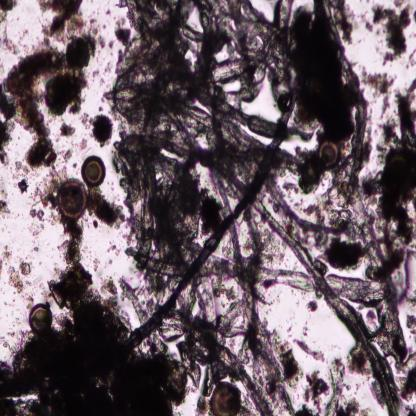Background material: (108, 0, 353, 263), (0, 219, 189, 415), (0, 30, 106, 174), (379, 80, 416, 273), (350, 67, 382, 239), (374, 2, 416, 62), (331, 357, 371, 415), (269, 329, 302, 387), (39, 0, 85, 41), (87, 186, 126, 229), (362, 66, 394, 117), (79, 13, 119, 52), (304, 372, 332, 408), (36, 172, 60, 213), (5, 260, 32, 292), (88, 113, 113, 146), (401, 362, 416, 416), (295, 338, 326, 364), (403, 284, 416, 342), (12, 160, 32, 193), (0, 24, 22, 53), (114, 17, 133, 48), (60, 141, 88, 160), (29, 207, 47, 234), (100, 278, 118, 298), (0, 1, 17, 22), (362, 6, 375, 31), (59, 120, 77, 138), (304, 300, 319, 314), (0, 200, 11, 216)
Cellulose filter fibre: (300, 241, 398, 412), (208, 249, 388, 307)
Cotton: (131, 68, 304, 348)
Diatom: (56, 179, 88, 220), (209, 380, 243, 415), (80, 154, 106, 186), (29, 303, 53, 334), (317, 141, 340, 168)
